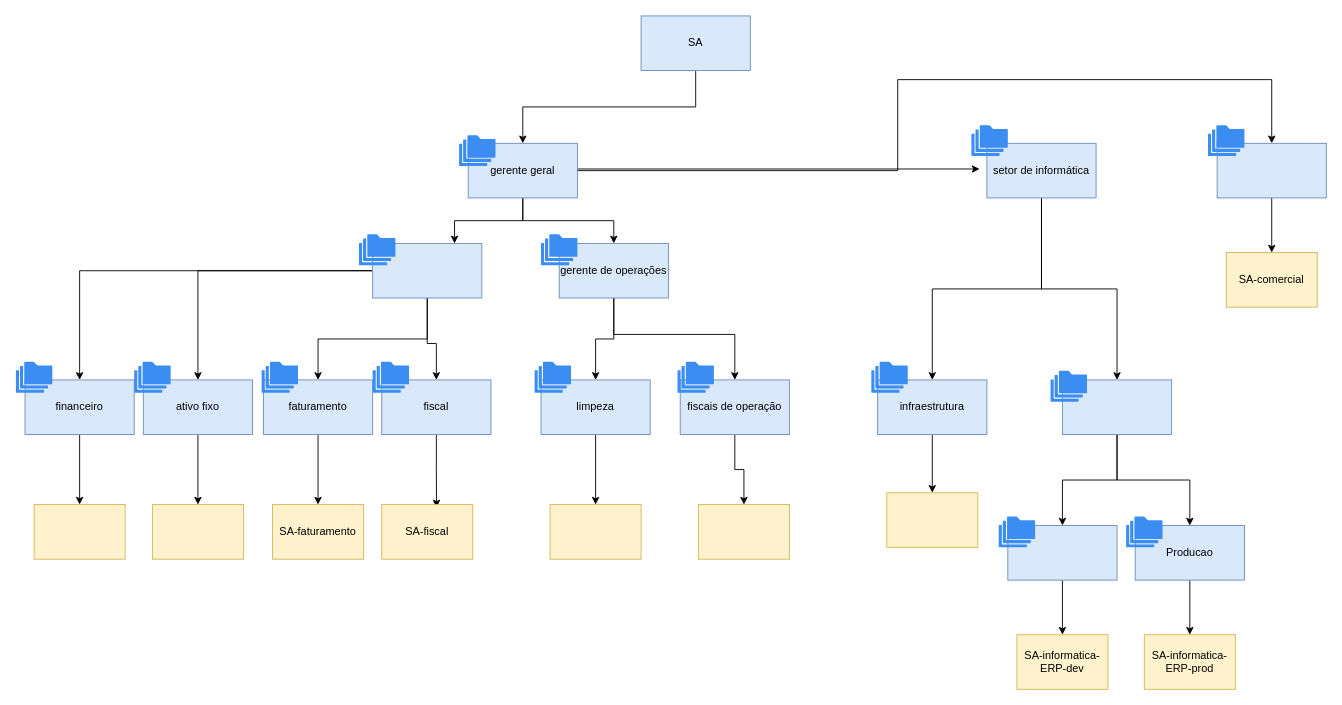
The diagram is 1342 pixels wide and 705 high, and some of its shapes have lost their labels. Here are the shapes that lost their labels. From the top down, the box of each, then its label:
(1216, 142, 1326, 198): comercial
(372, 243, 482, 298): gerente financeiro
(1062, 379, 1172, 435): ERP
(33, 504, 125, 559): SA-financeiro
(152, 504, 243, 559): SA-ativo-fixo
(549, 504, 641, 559): SA-operacoes-limpeza
(698, 504, 789, 559): SA-operacoes-fiscaisdeoperacao
(886, 492, 978, 547): SA-informatica-infra
(1007, 525, 1117, 580): desenvolvimento
